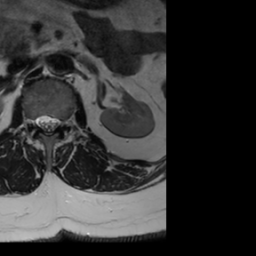CCS_normal: (43, 108, 51, 141)
LFS_stenosis: (59, 110, 68, 133)
LLS_stenosis: (51, 109, 59, 133)
RFS_normal: (28, 109, 35, 133)
RLS_normal: (35, 108, 43, 133)
